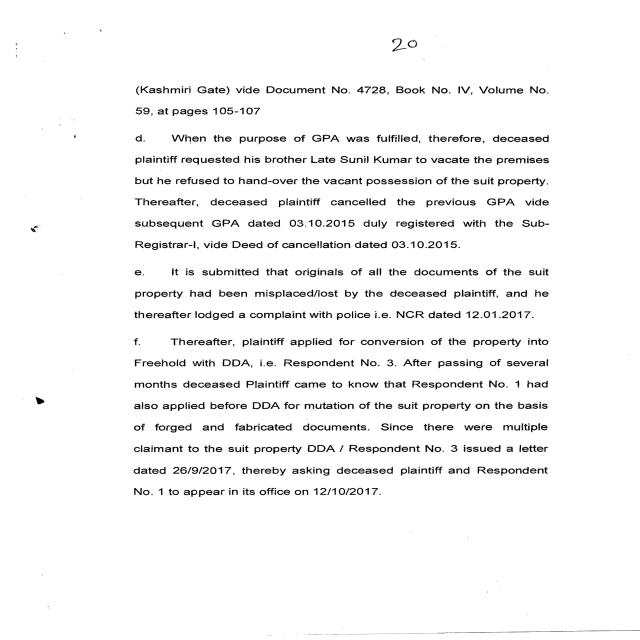page-number: (0, 0, 640, 74)
